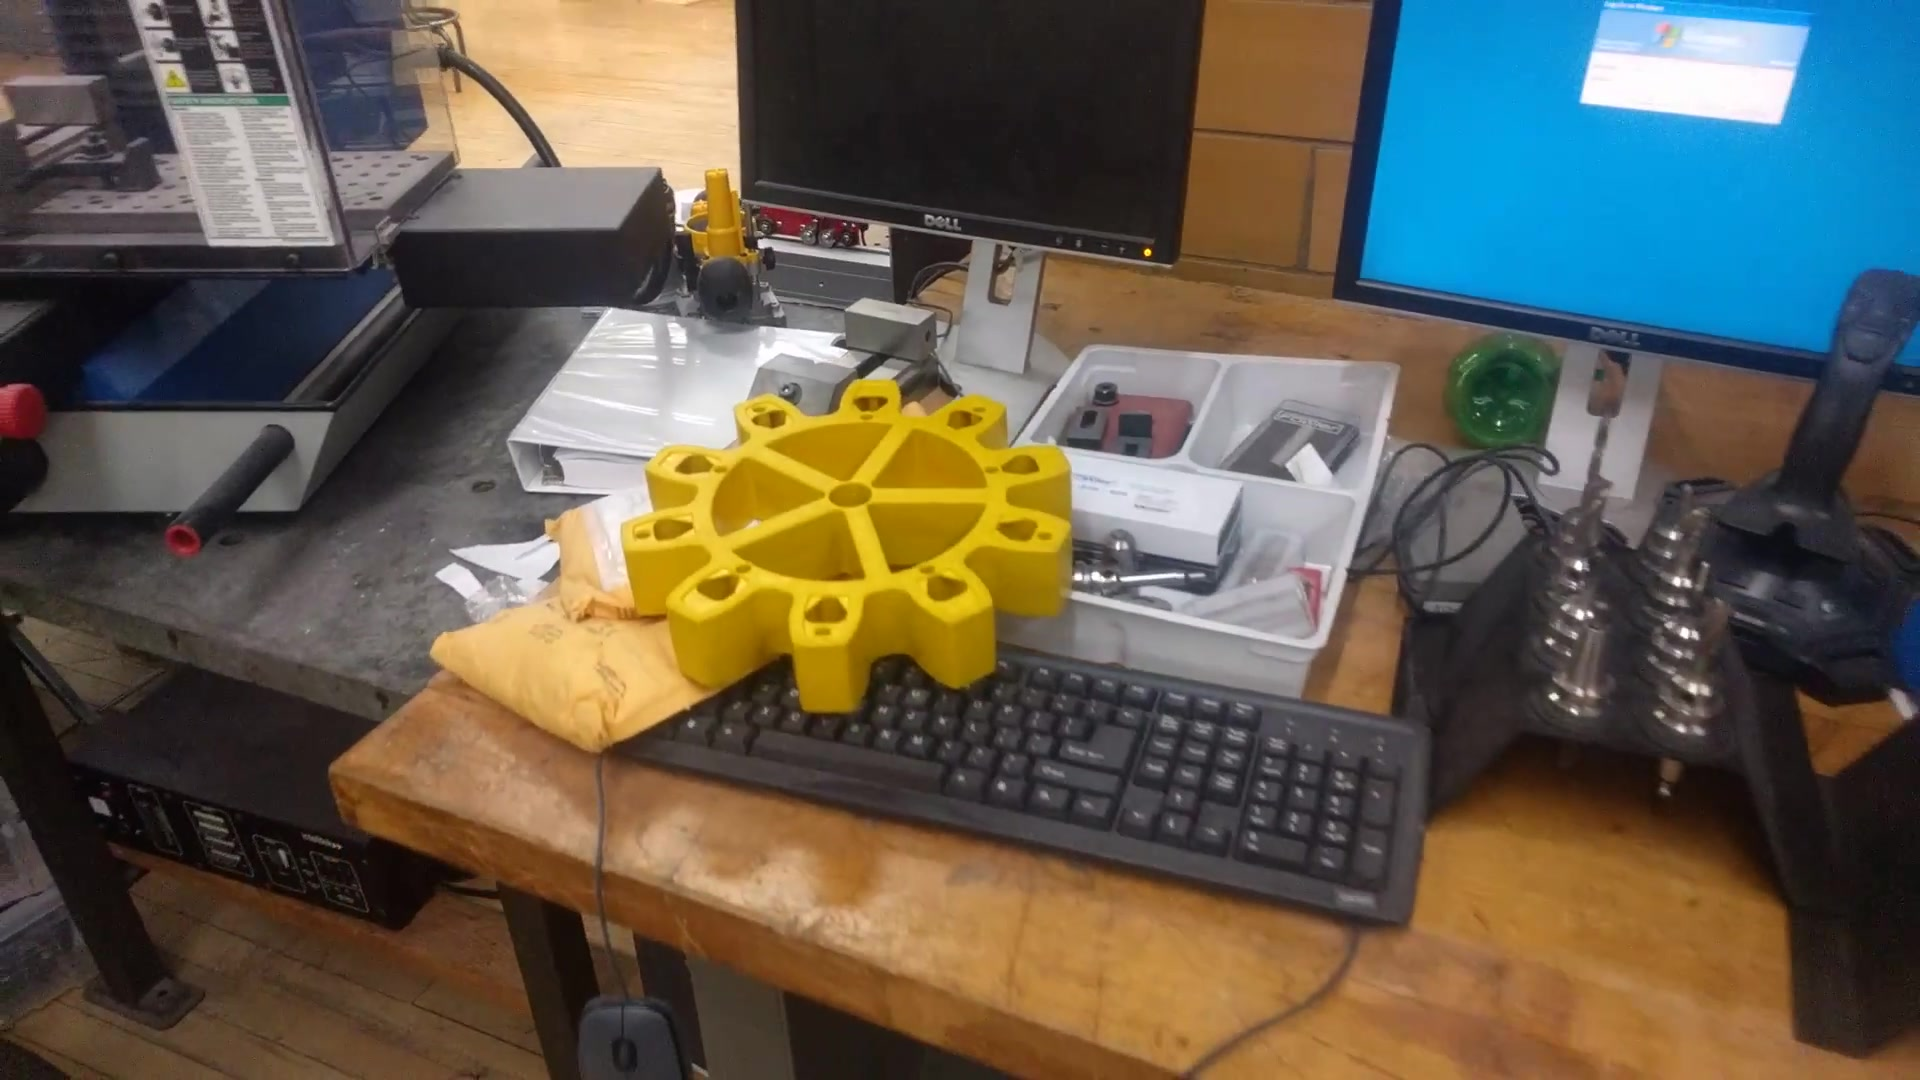gear: (636, 357, 1101, 715)
